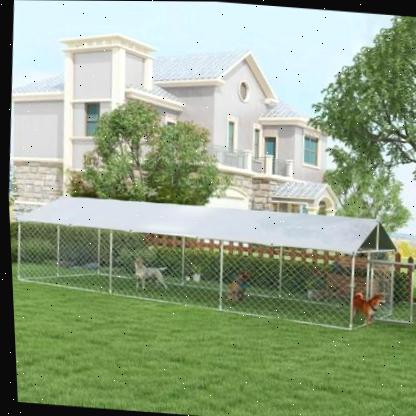dog: (124, 253, 176, 295), (213, 265, 260, 311), (339, 287, 392, 327), (137, 256, 167, 289)
